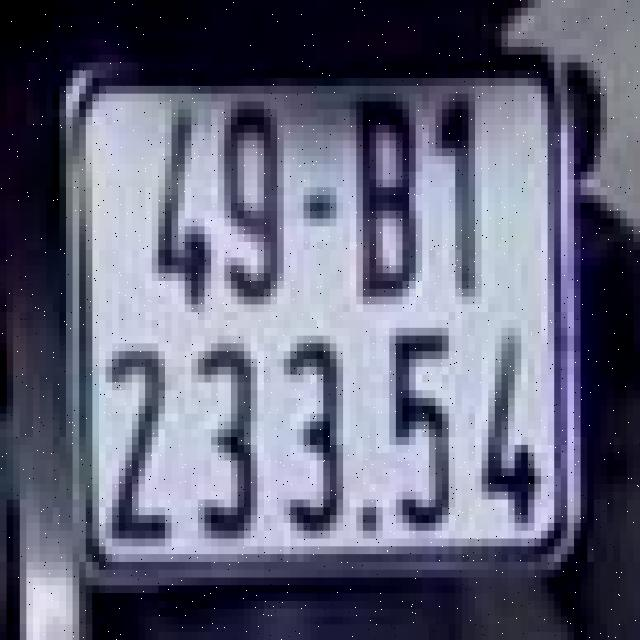1: (432, 70, 492, 304)
2: (96, 332, 168, 542)
3: (270, 332, 356, 558), (198, 332, 264, 558)
4: (136, 90, 214, 316), (478, 316, 544, 543)
5: (380, 304, 466, 538)
9: (221, 82, 300, 324)
B: (346, 70, 419, 304)
